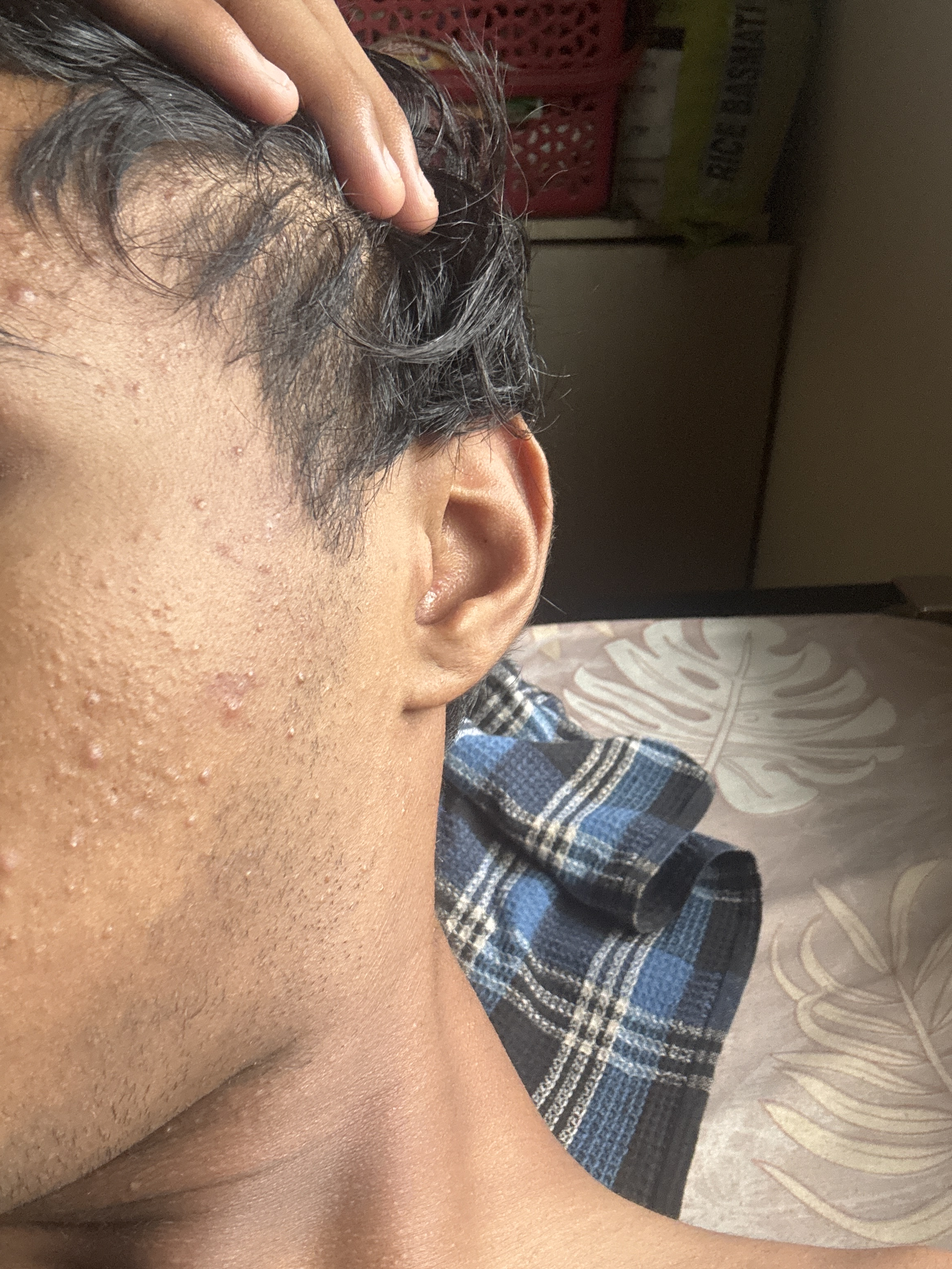closed_comedone: (56, 603, 84, 622)
macrocomedone: (39, 651, 70, 682)
nodule: (82, 739, 108, 764), (54, 765, 79, 787), (162, 765, 182, 781), (0, 888, 17, 906), (198, 770, 214, 785), (127, 805, 142, 821), (100, 794, 117, 807)
papule: (7, 283, 36, 304), (1, 855, 19, 876), (85, 692, 99, 709), (226, 700, 241, 715), (184, 815, 198, 828), (194, 498, 208, 510), (287, 728, 298, 738), (297, 673, 306, 684)
pustule: (51, 696, 64, 714), (265, 559, 278, 571), (233, 445, 245, 457), (6, 933, 19, 944), (45, 683, 61, 690), (69, 840, 78, 849), (67, 883, 75, 893), (190, 644, 201, 651), (247, 671, 255, 680), (313, 795, 322, 802), (82, 888, 89, 897), (183, 763, 190, 771), (244, 871, 253, 877), (258, 624, 263, 633), (136, 740, 143, 746)
